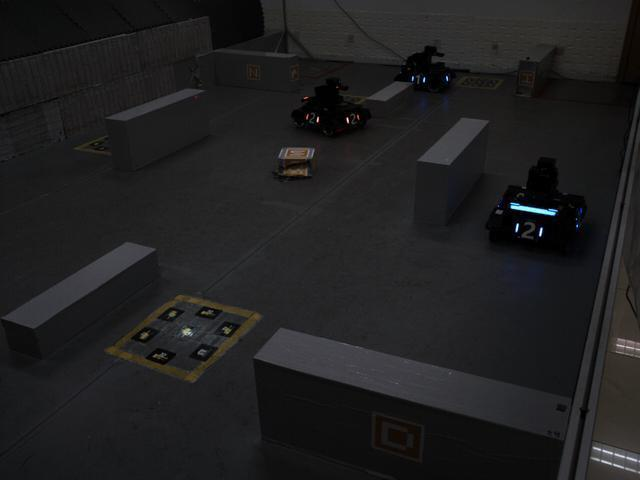armor: (511, 218, 546, 244), (302, 108, 322, 126), (341, 110, 362, 127), (407, 72, 428, 89)
